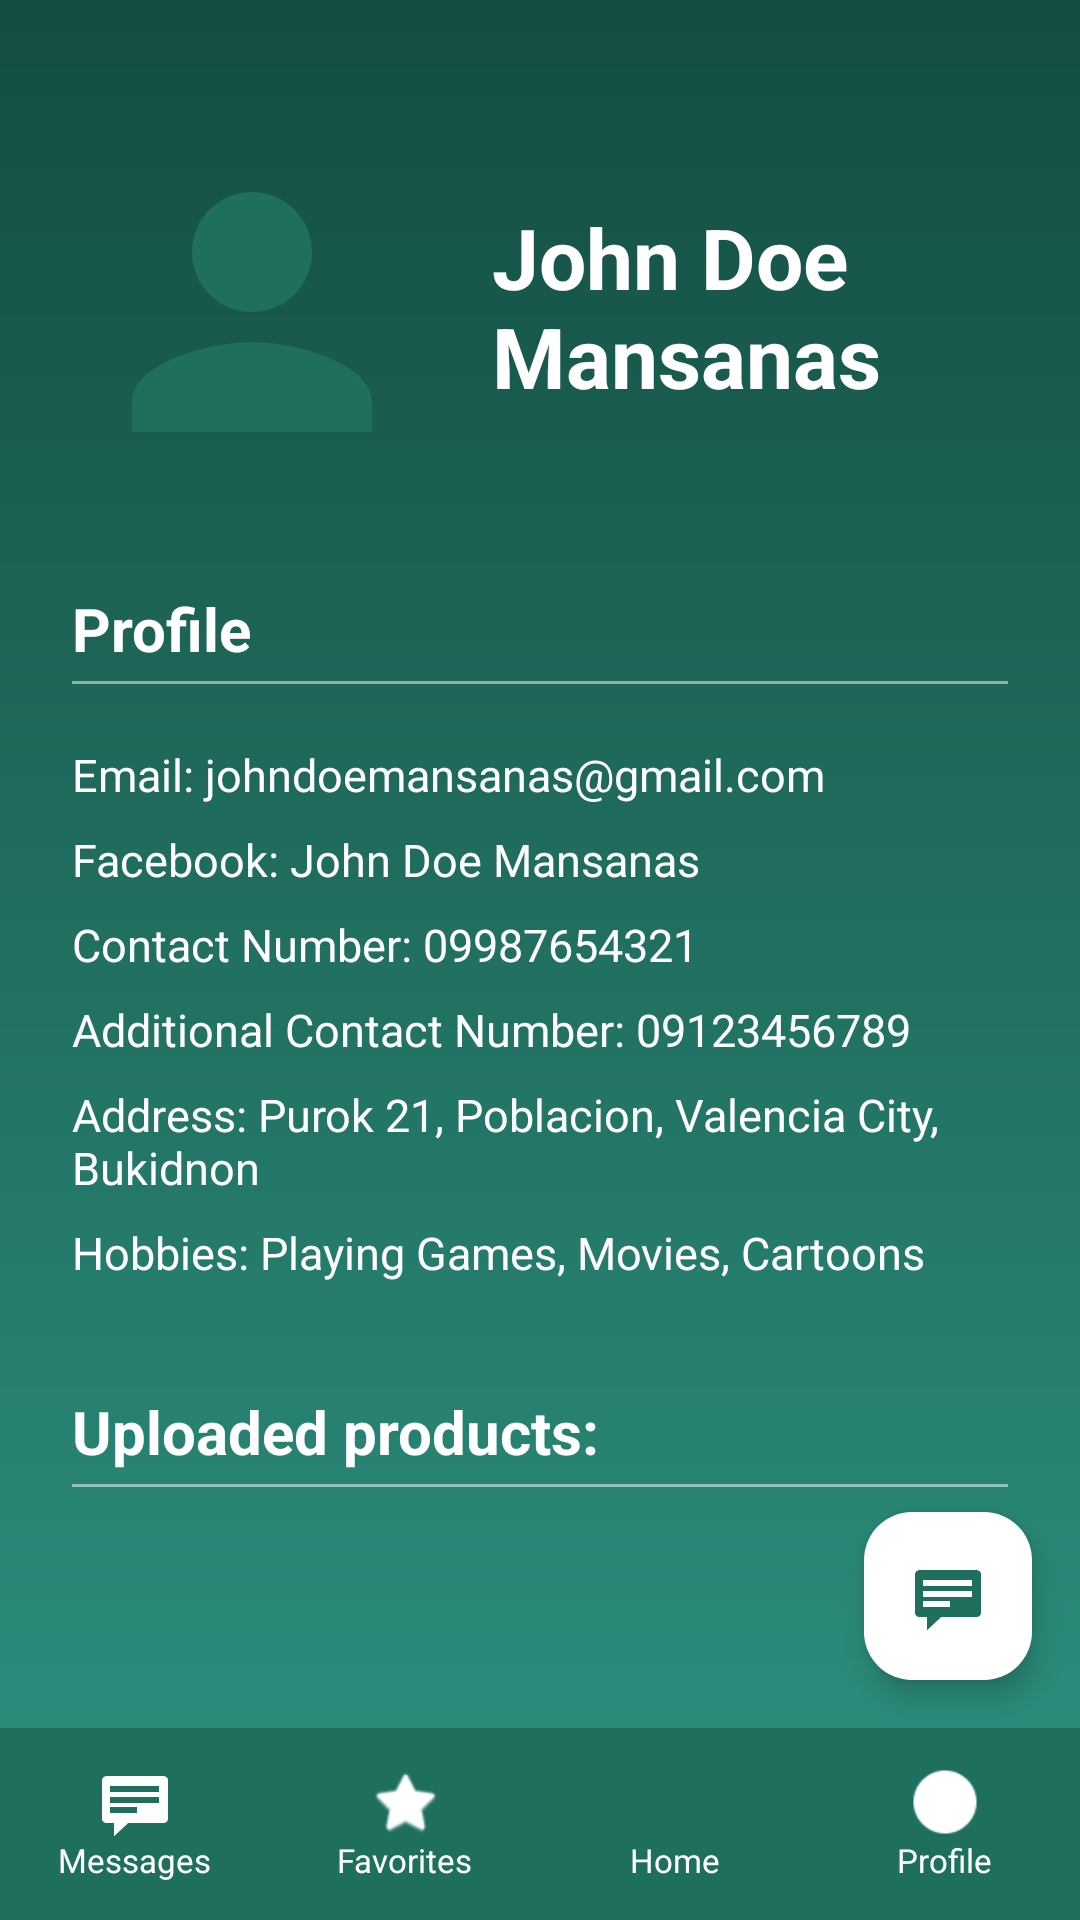

Icons on this 1080×1920 Android screen, each with the point to tap as [x,y]:
Message user: [948,1596]
